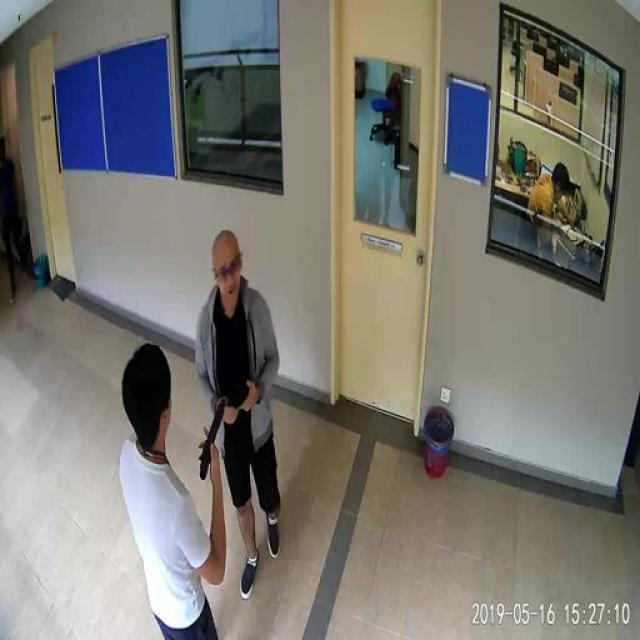weapon: (198, 398, 226, 483)
